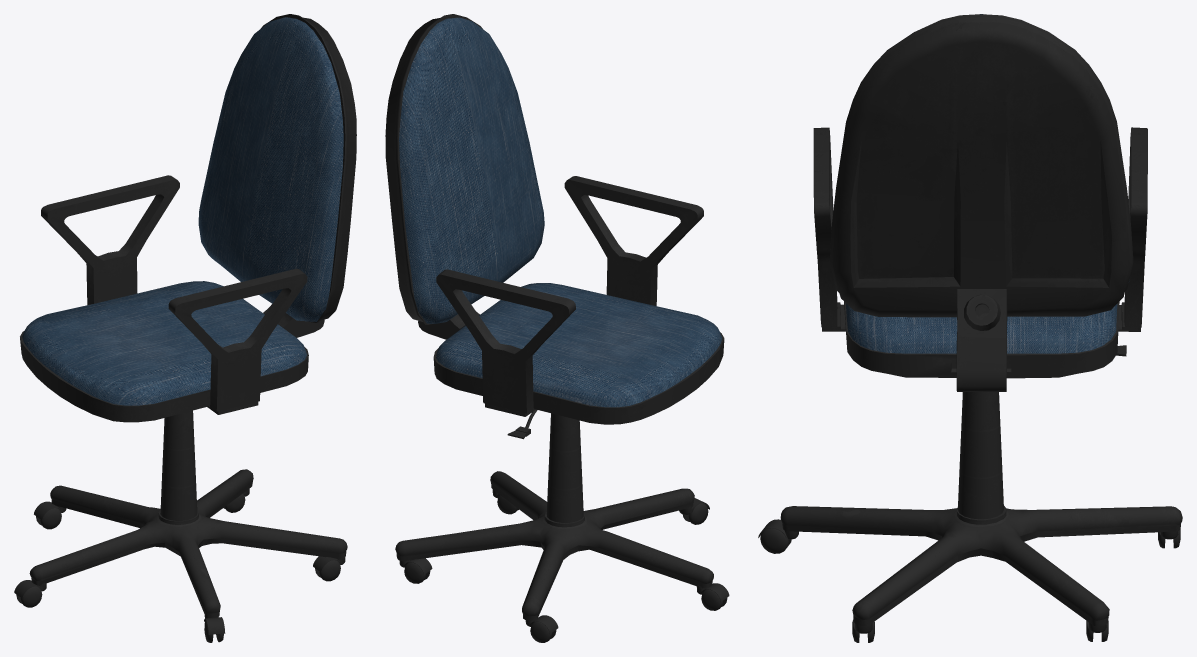
The model's file is SM_OfficeChair_A1.fbx.
3 renders of one model, left to right at view 1: azimuth 30°, elevation 25°; view 2: azimuth 150°, elevation 25°; view 3: azimuth 270°, elevation 25°, orthographic. The views are drawn at different scales.
Visible parts, largest first — view 1: SM_OfficeChair_A1; view 2: SM_OfficeChair_A1; view 3: SM_OfficeChair_A1.
Part boxes in pixels (x1,y1,x2,y2): SM_OfficeChair_A1: (14, 14, 356, 642); SM_OfficeChair_A1: (385, 14, 729, 642); SM_OfficeChair_A1: (758, 14, 1182, 642).
Size of the model in its own units: 67.11 by 65.95 by 110.
1 material, 1 textured.
